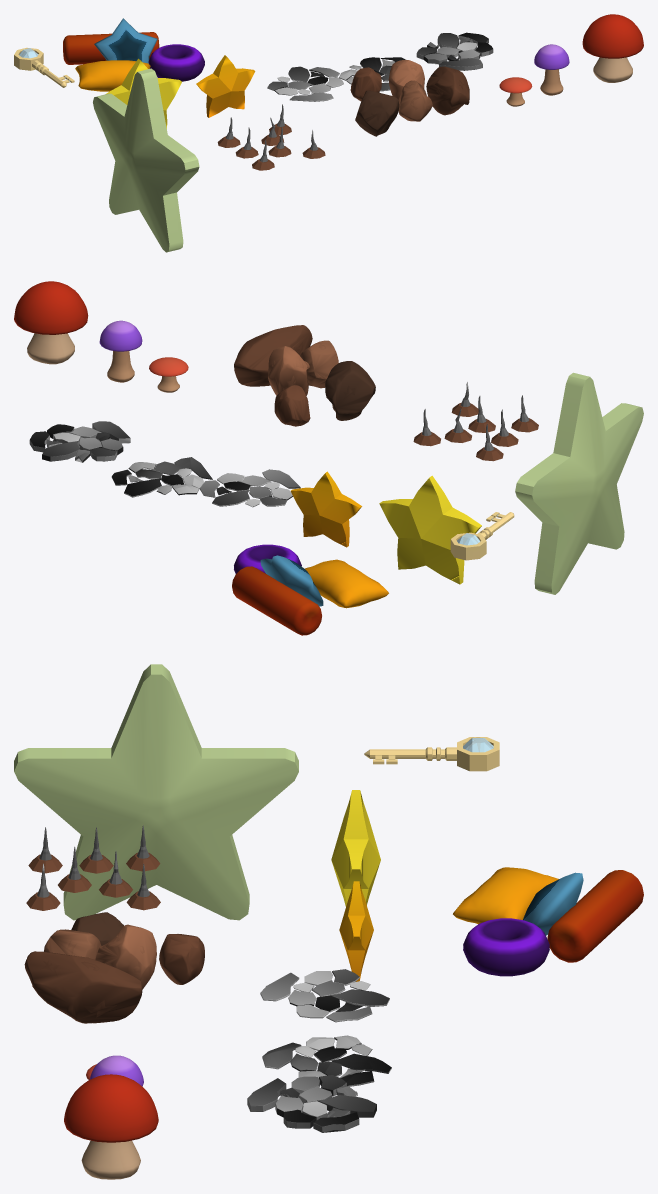
Rendered from gamejam_Assets_Small 1.fbx.
3 views of the same model, one above another, from view 1: azimuth 30°, elevation 25°; view 2: azimuth 150°, elevation 25°; view 3: azimuth 270°, elevation 25° (orthographic). The views are drawn at different scales.
Parts seen in each view (by area): view 1: pCylinder9, Mushroom.001, Rocks_For_Floor.002, Star_Asset.001, Rocks_For_Floor.001, Pillow.001, Pillow.003, Small_Rcok.1, Pillow.002, Small_Rcok.4, hole_spike, Pillow (+9 smaller); view 2: pCylinder9, Star_Asset, Mushroom.001, Pillow, Rocks_For_Floor.002, Star_Asset.001, Rocks_For_Floor.003, Rocks_For_Floor.001, Small_Rcok.1, Pillow.002, Small_Rcok.4, hole_spike (+9 smaller); view 3: pCylinder9, Mushroom.001, Small_Rcok.1, Rocks_For_Floor.002, Pillow, Rocks_For_Floor.001, Pillow.001, Rocks_For_Floor.003, Star_Asset, Pillow.002, hole_spike, Key_PickUp (+8 smaller).
Boxes of the visible parts, x1,y1,x2,y2 form: pCylinder9: [93, 68, 199, 252]; Mushroom.001: [582, 14, 643, 82]; Rocks_For_Floor.002: [416, 32, 493, 70]; Star_Asset.001: [196, 55, 255, 117]; Rocks_For_Floor.001: [267, 66, 343, 101]; Pillow.001: [148, 44, 204, 81]; Pillow.003: [94, 18, 157, 63]; Small_Rcok.1: [426, 66, 469, 115]; Pillow.002: [75, 60, 150, 91]; Small_Rcok.4: [355, 90, 399, 136]; hole_spike: [217, 123, 325, 170]; Pillow: [63, 32, 159, 64]; pCylinder9: [515, 372, 643, 594]; Star_Asset: [379, 475, 481, 584]; Mushroom.001: [14, 281, 88, 364]; Pillow: [232, 566, 321, 635]; Rocks_For_Floor.002: [29, 421, 130, 462]; Star_Asset.001: [290, 471, 361, 547]; Rocks_For_Floor.003: [111, 457, 212, 497]; Rocks_For_Floor.001: [200, 469, 300, 507]; Small_Rcok.1: [234, 325, 312, 386]; Pillow.002: [304, 559, 388, 608]; Small_Rcok.4: [325, 361, 375, 420]; hole_spike: [413, 402, 538, 461]; pCylinder9: [14, 664, 298, 920]; Mushroom.001: [64, 1074, 158, 1179]; Small_Rcok.1: [24, 951, 142, 1023]; Rocks_For_Floor.002: [247, 1075, 376, 1132]; Pillow: [547, 870, 643, 962]; Rocks_For_Floor.001: [260, 969, 389, 1022]; Pillow.001: [463, 918, 549, 976]; Rocks_For_Floor.003: [262, 1035, 391, 1086]; Star_Asset: [331, 790, 380, 906]; Pillow.002: [453, 867, 558, 924]; hole_spike: [26, 852, 160, 910]; Key_PickUp: [364, 737, 499, 771].
Bounding box in the file's own units: 13.76 × 4.16 × 9.68.
4 materials, 4 textured.
